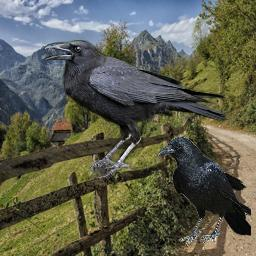Crow: (44, 40, 230, 178), (156, 136, 251, 246)
